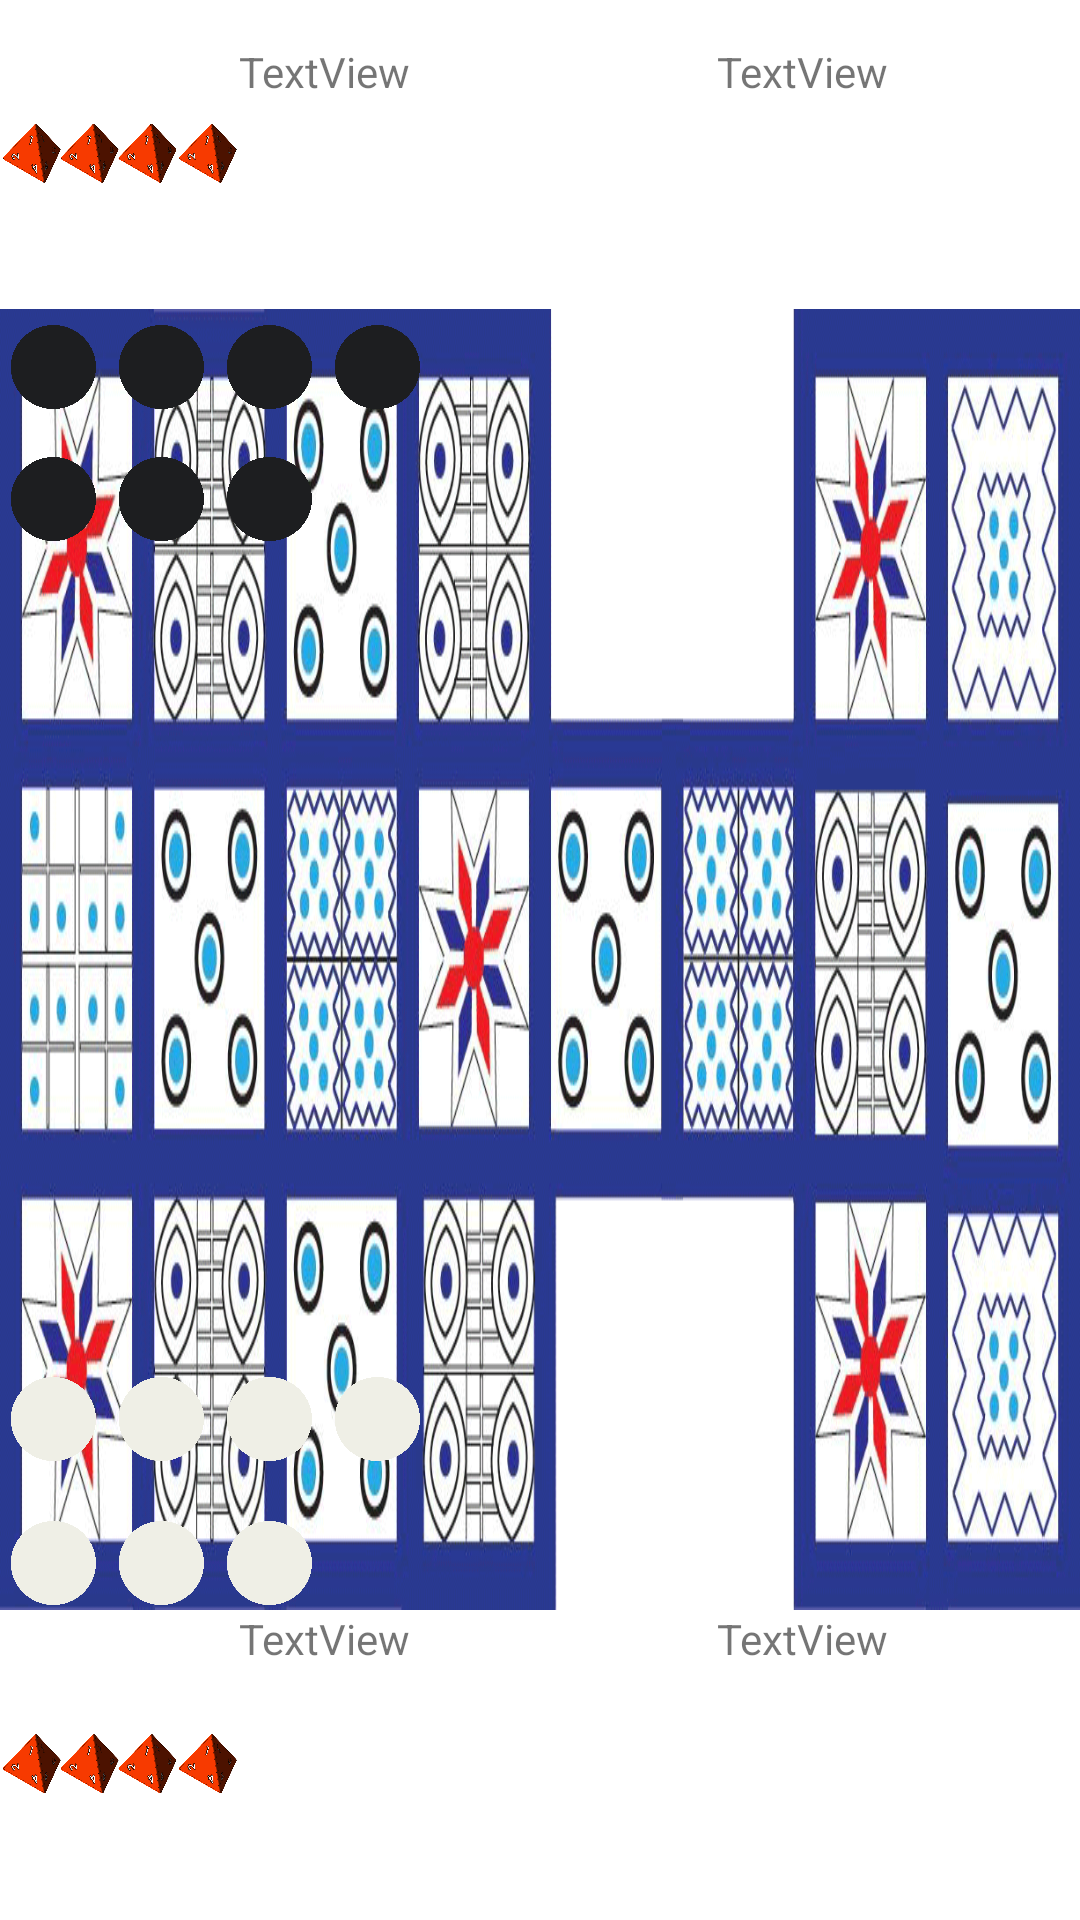

Icons on this 1080*1920 Android screen, each with its box as (x1, y1, x2, y2):
dices: (3, 124, 237, 183), (3, 1734, 237, 1793)
